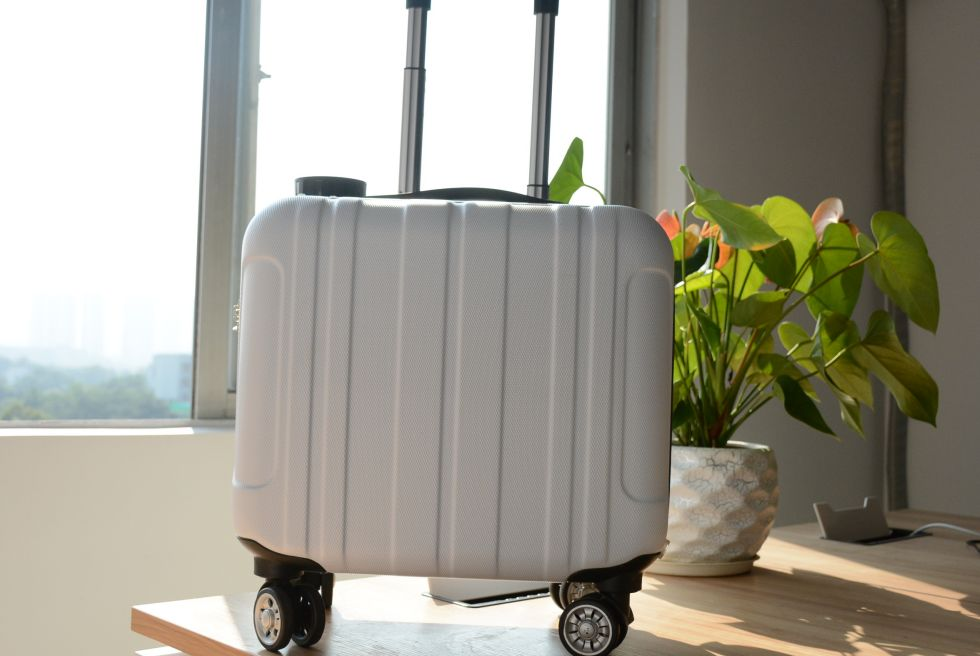box: (236, 196, 674, 583)
handle: (350, 187, 565, 204)
wheel: (253, 582, 326, 651), (558, 592, 629, 656)
